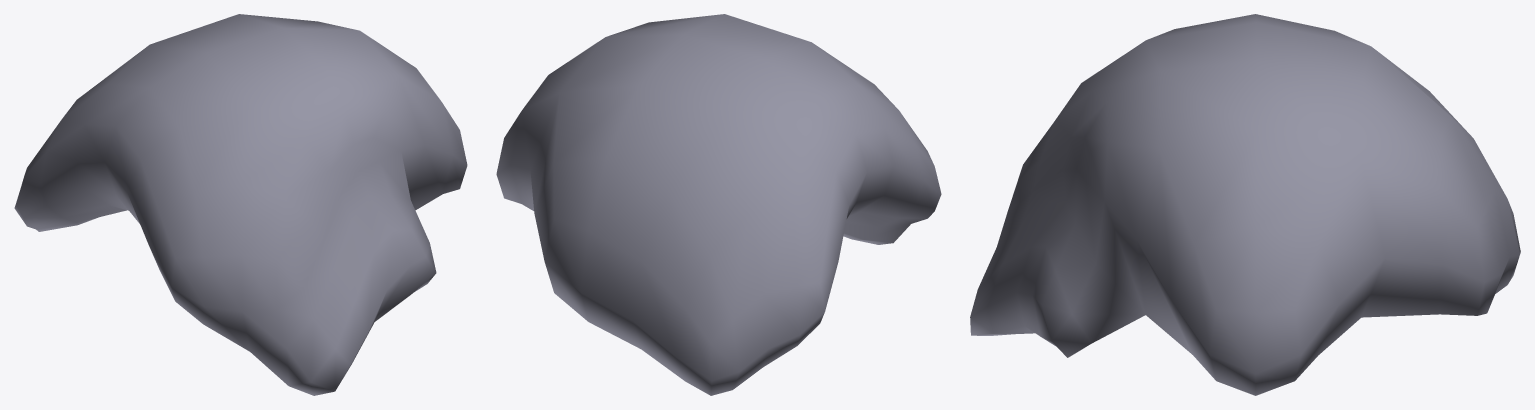
The model's file is rock3.fbx.
The picture shows the model from 3 angles, left to right: view 1: azimuth 30°, elevation 25°; view 2: azimuth 150°, elevation 25°; view 3: azimuth 270°, elevation 25°; orthographic projection. The views are drawn at different scales.
Visible parts, largest first — view 1: Rocker.003; view 2: Rocker.003; view 3: Rocker.003.
Part boxes in pixels (x1,y1,x2,y2): Rocker.003: (14,14,467,395); Rocker.003: (496,14,941,395); Rocker.003: (970,14,1520,395).
Bounding box in the file's own units: 415 × 280 × 434.
